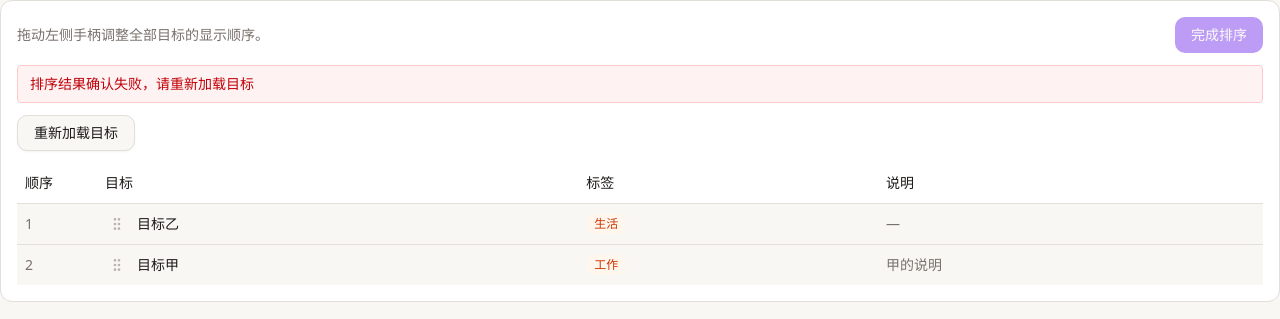
Test: GoalOrderEditor › keeps the optimistic order and requires reload after a malformed successful save response
Expected: the text "目标甲" is shown, [137,254,179,274]
Expected: the message reads "排序结果确认失败，请重新加载目标", [30,74,254,93]
Click the button "重新加载目标" at x=76, y=133, box [17,115,135,151]
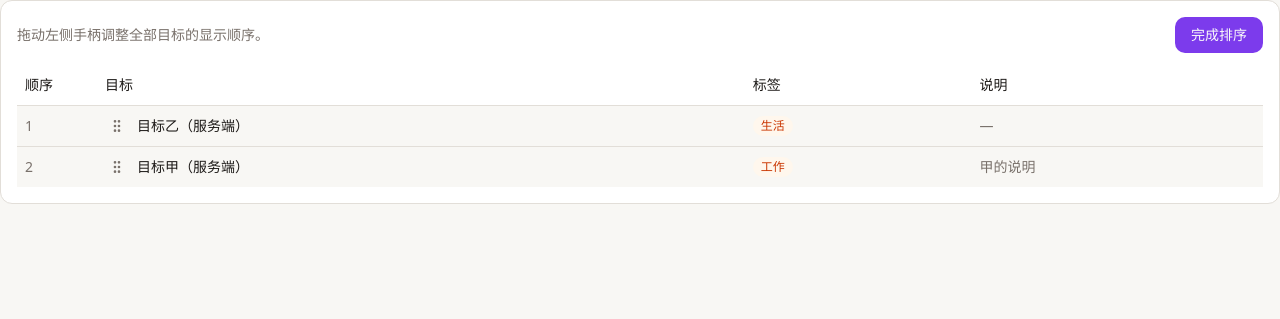
Expected: the text "目标乙（服务端）" is shown, [137,116,249,136]
